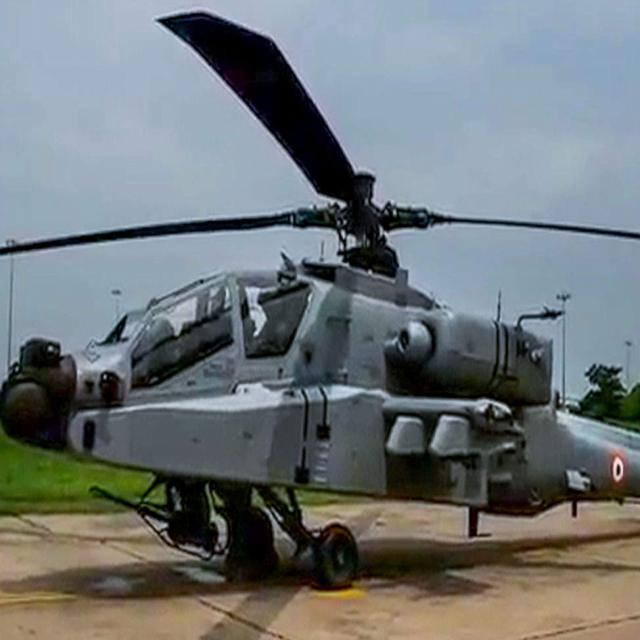helicopter: (1, 49, 640, 605)
